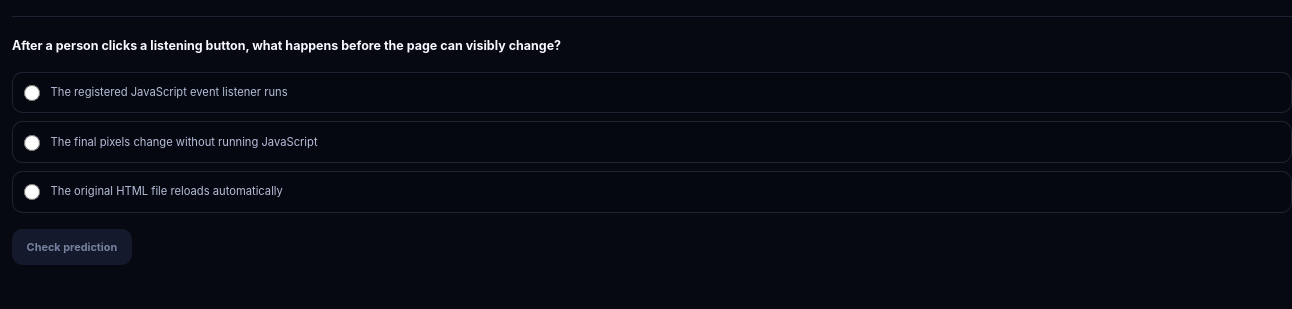
PredictionCheckpoint › requires a selection and gives retry feedback without completing
Expected: the button "Check prediction" is disabled, [12,229,132,265]
Click the radio button labelled "The original HTML file reloads automatically" at coordinates (32, 192), box [24,184,40,200]
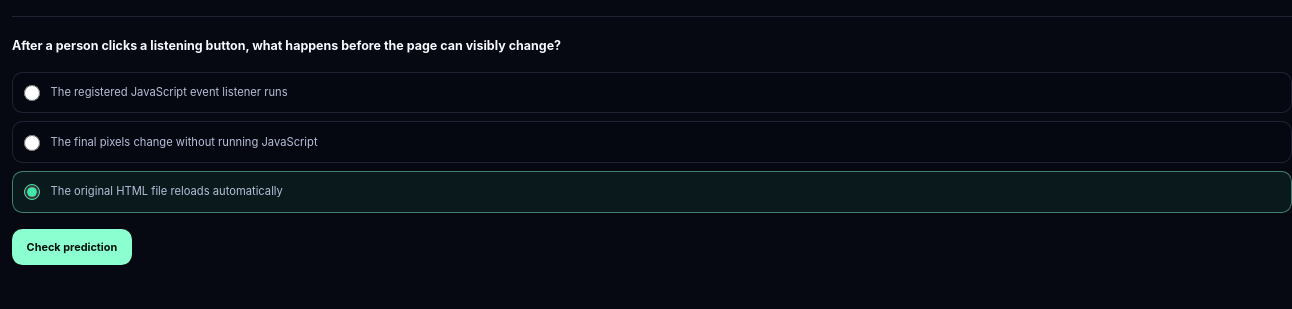
Click the button "Check prediction" at coordinates (72, 247), box [12,229,132,265]
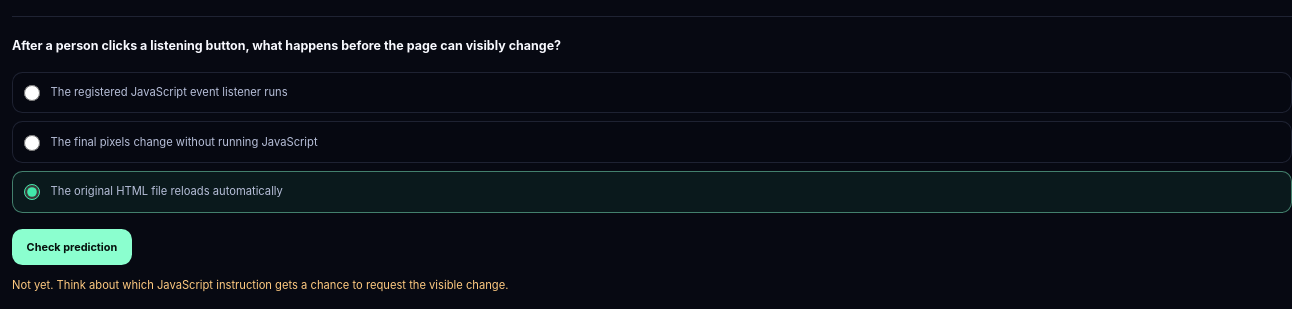
Now the text "Not yet. Think about which JavaScript instruction gets a chance to request the visible change." is shown, box [12,278,508,292]
